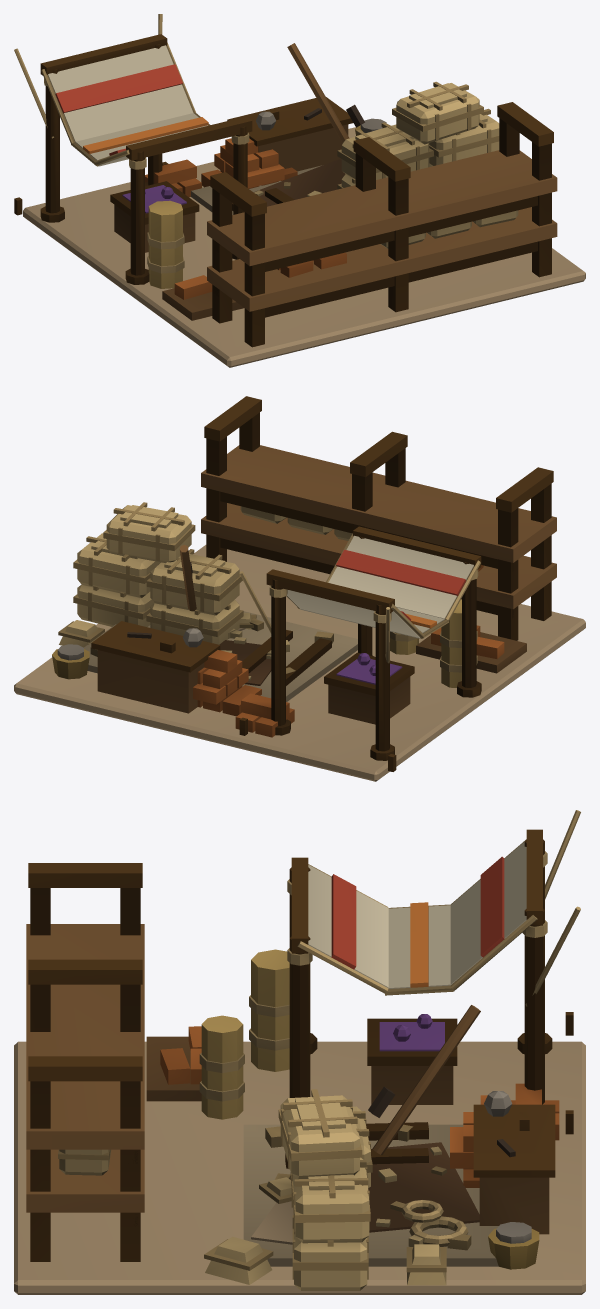
The model's file is luxury_material.glb.
3 views of the same model, one above another, from view 1: azimuth 30°, elevation 25°; view 2: azimuth 150°, elevation 25°; view 3: azimuth 270°, elevation 25° (orthographic). The views are drawn at different scales.
Parts seen in each view (by area): view 1: luxury_material_wood_mid, luxury_material_wood_dark, luxury_material_dirt_apron, luxury_material_linen_pale, luxury_material_stone_warm, luxury_material_copper_ingot, luxury_material_stone_groove, luxury_material_cloth_red, luxury_material_thatch_mat, luxury_material_rope_tan, luxury_material_soil_dark, luxury_material_cloth_orange (+3 smaller); view 2: luxury_material_wood_dark, luxury_material_wood_mid, luxury_material_dirt_apron, luxury_material_stone_warm, luxury_material_linen_pale, luxury_material_stone_groove, luxury_material_copper_ingot, luxury_material_earth_pack, luxury_material_cloth_red, luxury_material_rope_tan, luxury_material_thatch_mat, luxury_material_soil_dark (+3 smaller); view 3: luxury_material_dirt_apron, luxury_material_wood_dark, luxury_material_wood_mid, luxury_material_stone_warm, luxury_material_linen_pale, luxury_material_earth_pack, luxury_material_stone_groove, luxury_material_rope_tan, luxury_material_thatch_mat, luxury_material_soil_dark, luxury_material_cloth_red, luxury_material_copper_ingot (+5 smaller).
Boxes of the visible parts, x1,y1,x2,y2 form: luxury_material_wood_mid: (114,43,557,320); luxury_material_wood_dark: (14,34,553,347); luxury_material_dirt_apron: (23,127,585,367); luxury_material_linen_pale: (48,45,207,166); luxury_material_stone_warm: (254,83,518,248); luxury_material_copper_ingot: (145,138,346,299); luxury_material_stone_groove: (284,81,499,189); luxury_material_cloth_red: (55,64,182,155); luxury_material_thatch_mat: (148,200,182,288); luxury_material_rope_tan: (14,14,249,273); luxury_material_soil_dark: (254,159,345,206); luxury_material_cloth_orange: (83,117,208,154); luxury_material_wood_dark: (91,396,553,771); luxury_material_wood_mid: (97,445,556,724); luxury_material_dirt_apron: (14,545,585,781); luxury_material_stone_warm: (59,505,351,680); luxury_material_linen_pale: (287,535,473,638); luxury_material_stone_groove: (58,502,333,673); luxury_material_copper_ingot: (193,565,504,737); luxury_material_earth_pack: (84,611,357,701); luxury_material_cloth_red: (336,549,465,620); luxury_material_rope_tan: (239,533,480,672); luxury_material_thatch_mat: (390,599,461,687); luxury_material_soil_dark: (219,640,271,685); luxury_material_dirt_apron: (14,1041,585,1294); luxury_material_wood_dark: (28,829,573,1261); luxury_material_wood_mid: (26,924,549,1234); luxury_material_stone_warm: (59,1095,446,1290); luxury_material_linen_pale: (308,842,526,988); luxury_material_earth_pack: (243,1124,498,1266); luxury_material_stone_groove: (58,1089,471,1279); luxury_material_rope_tan: (199,810,580,1246); luxury_material_thatch_mat: (201,949,289,1119); luxury_material_soil_dark: (368,1142,479,1232); luxury_material_cloth_red: (331,856,504,969); luxury_material_copper_ingot: (160,1026,559,1187).
Size of the model in its own units: 3.04 by 1.29 by 2.8.
